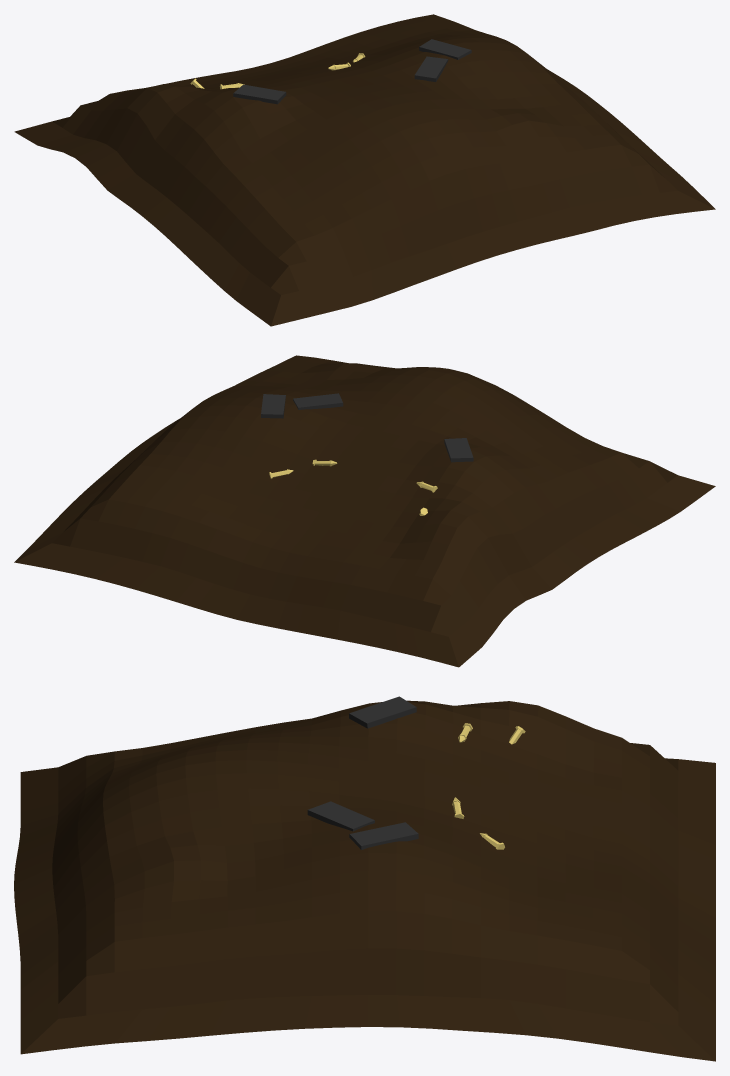
The model's file is Lvl2_RS_Decor_Model.fbx.
3 renders of one model, top to bottom at view 1: azimuth 30°, elevation 25°; view 2: azimuth 150°, elevation 25°; view 3: azimuth 270°, elevation 25°, orthographic. The views are drawn at different scales.
Visible parts, largest first — view 1: Plane.009; view 2: Plane.009; view 3: Plane.009.
Part boxes in pixels (<box>): Plane.009: <box>14,14,715,326</box>; Plane.009: <box>14,355,715,667</box>; Plane.009: <box>14,696,715,1061</box>.
Size of the model in its own units: 224 by 52.83 by 226.
